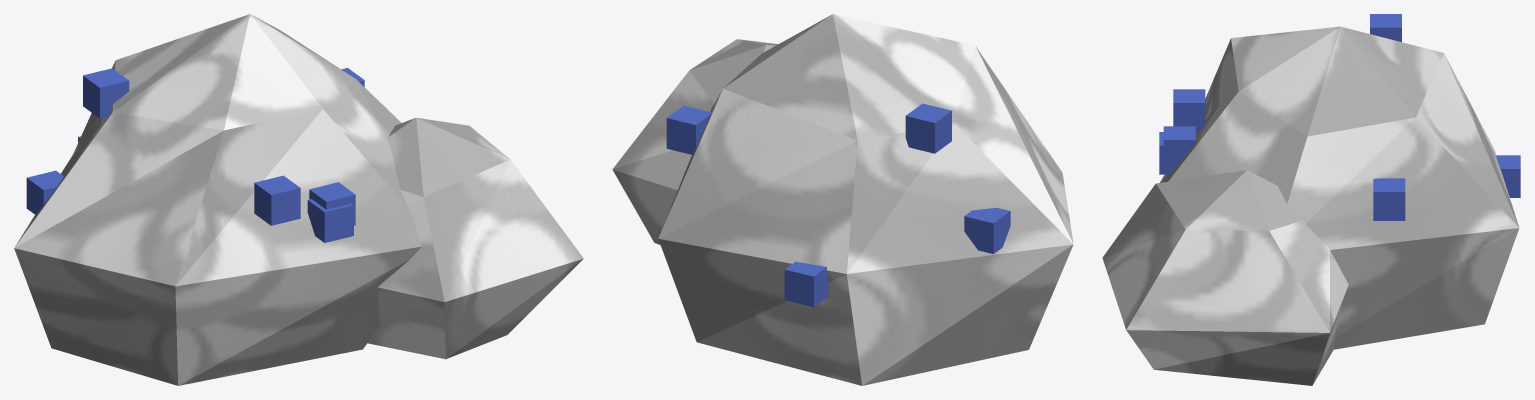
The model's file is berry_bush_1.obj.
3 views of the same model, side by side, from view 1: azimuth 30°, elevation 25°; view 2: azimuth 150°, elevation 25°; view 3: azimuth 270°, elevation 25° (orthographic). The views are drawn at different scales.
Parts seen in each view (by area): view 1: berry_bush_1; view 2: berry_bush_1; view 3: berry_bush_1.
Part boxes in pixels (left/top/right/bottom): berry_bush_1: left=14, top=14, right=583, bottom=385; berry_bush_1: left=612, top=14, right=1073, bottom=385; berry_bush_1: left=1102, top=14, right=1520, bottom=385.
Bounding box in the file's own units: 0.7117 × 0.42 × 0.5887.
